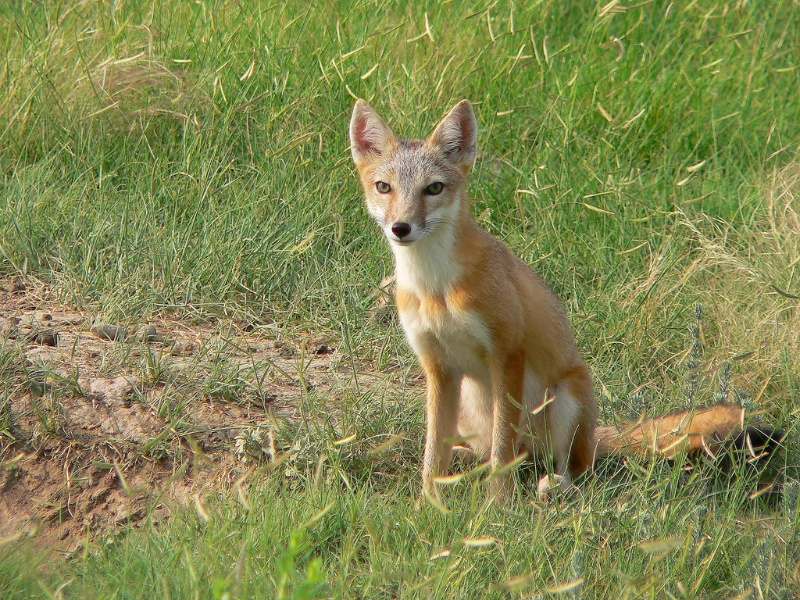fox: (344, 94, 784, 504)
